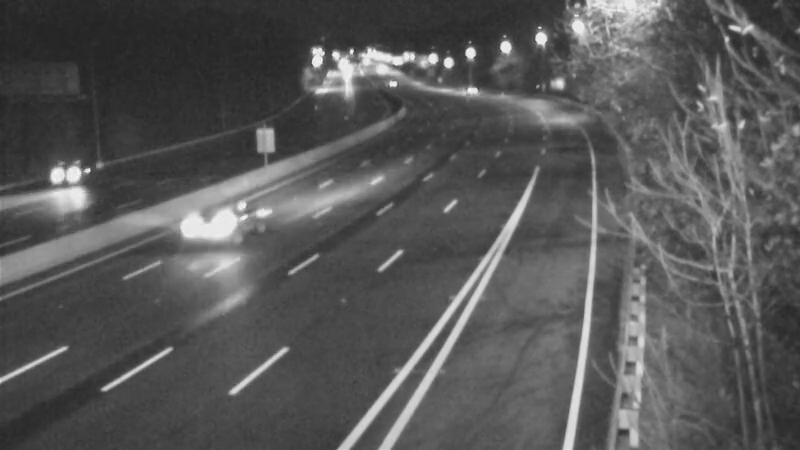vehicle: (177, 179, 257, 259), (21, 138, 101, 218), (366, 57, 416, 107), (443, 63, 493, 113)
